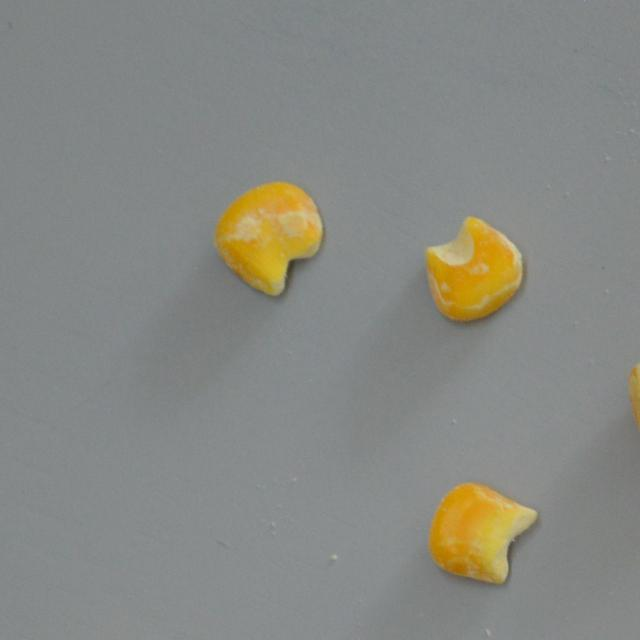pelicula: (212, 181, 324, 296), (427, 481, 537, 585), (423, 214, 524, 322), (626, 344, 640, 454)
